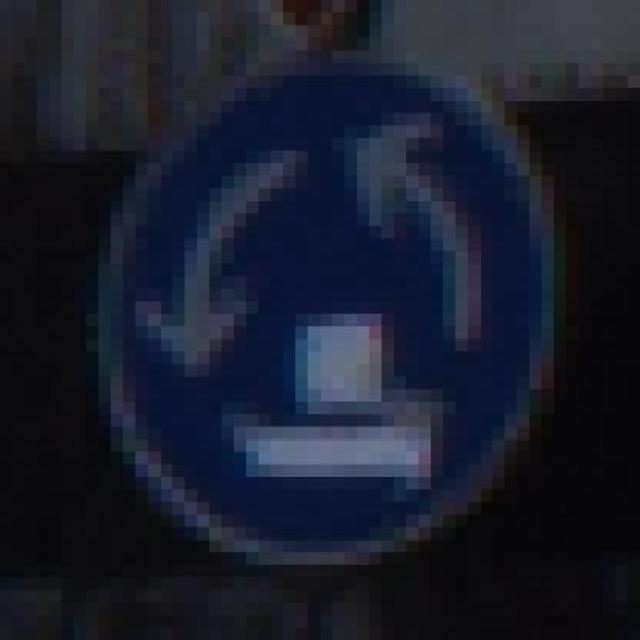Round-About: (86, 38, 579, 590)
